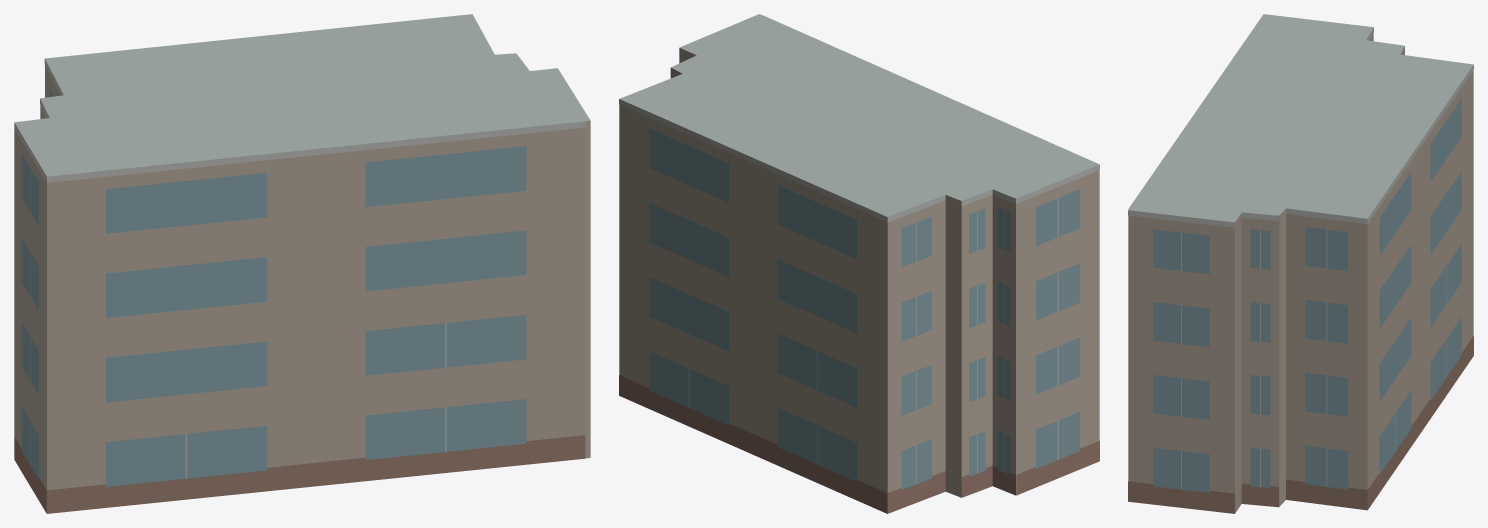
File: survey-upis-32616481.glb
The picture shows the model from 3 angles, left to right: view 1: azimuth 30°, elevation 25°; view 2: azimuth 150°, elevation 25°; view 3: azimuth 270°, elevation 25°; orthographic projection. The views are drawn at different scales.
Visible parts, largest first — view 1: survey-upis-32616481.tmp; view 2: survey-upis-32616481.tmp; view 3: survey-upis-32616481.tmp.
Boxes of the visible parts, left/top/right/bottom form: survey-upis-32616481.tmp: left=14, top=14, right=590, bottom=513; survey-upis-32616481.tmp: left=619, top=14, right=1099, bottom=513; survey-upis-32616481.tmp: left=1128, top=14, right=1473, bottom=513.
Size of the model in its own units: 20.26 by 13.2 by 14.19.
